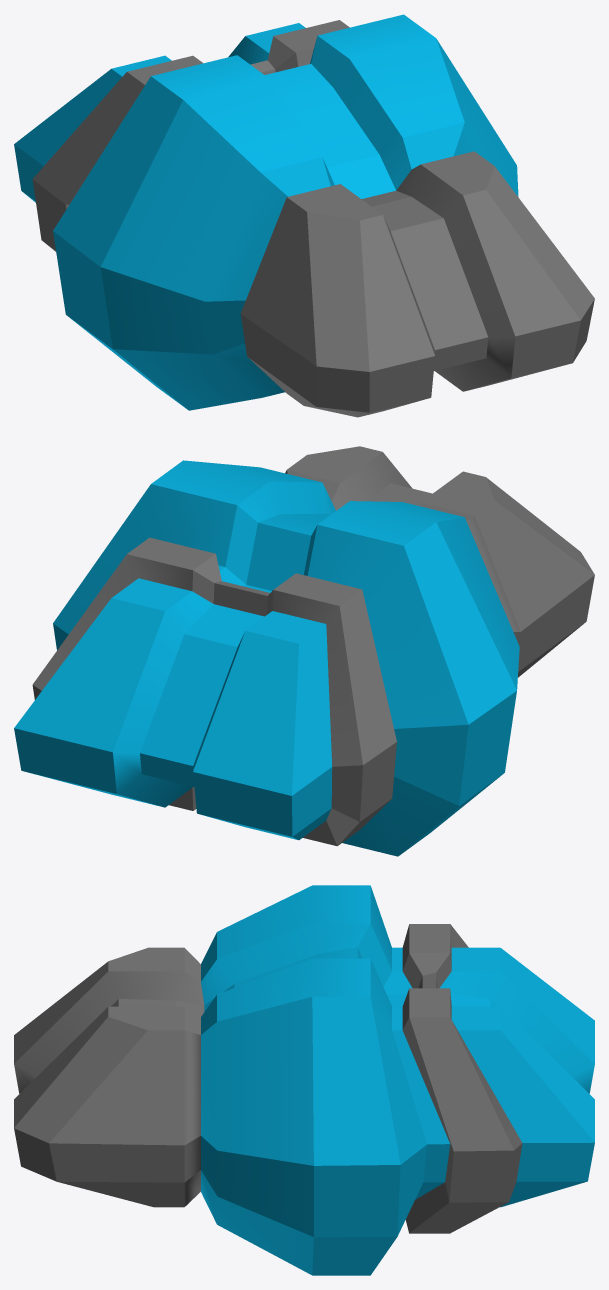
Rendered from _1Ship_PIece17.fbx.
3 views of the same model, one above another, from view 1: azimuth 30°, elevation 25°; view 2: azimuth 150°, elevation 25°; view 3: azimuth 270°, elevation 25° (orthographic). The views are drawn at different scales.
Parts seen in each view (by area): view 1: Ship_PIece17; view 2: Ship_PIece17; view 3: Ship_PIece17.
Boxes of the visible parts, <box> form: Ship_PIece17: <box>14,14,594,417</box>; Ship_PIece17: <box>14,446,594,856</box>; Ship_PIece17: <box>14,885,594,1275</box>.
Size of the model in its own units: 277 by 199 by 372.
